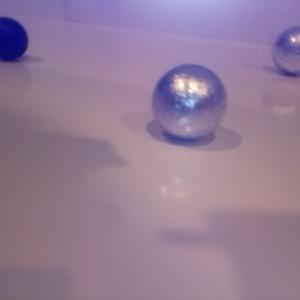alive_ball: (152, 64, 227, 141), (272, 27, 300, 74)
dead_ball: (1, 16, 29, 61)
